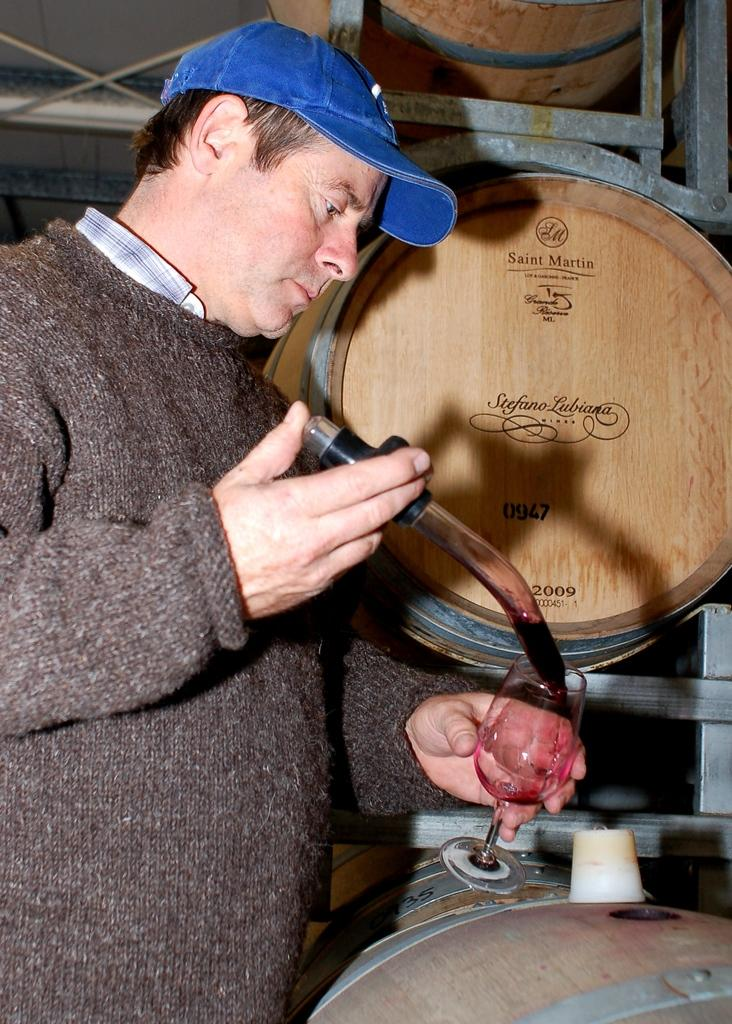Hat: (152, 22, 460, 252)
